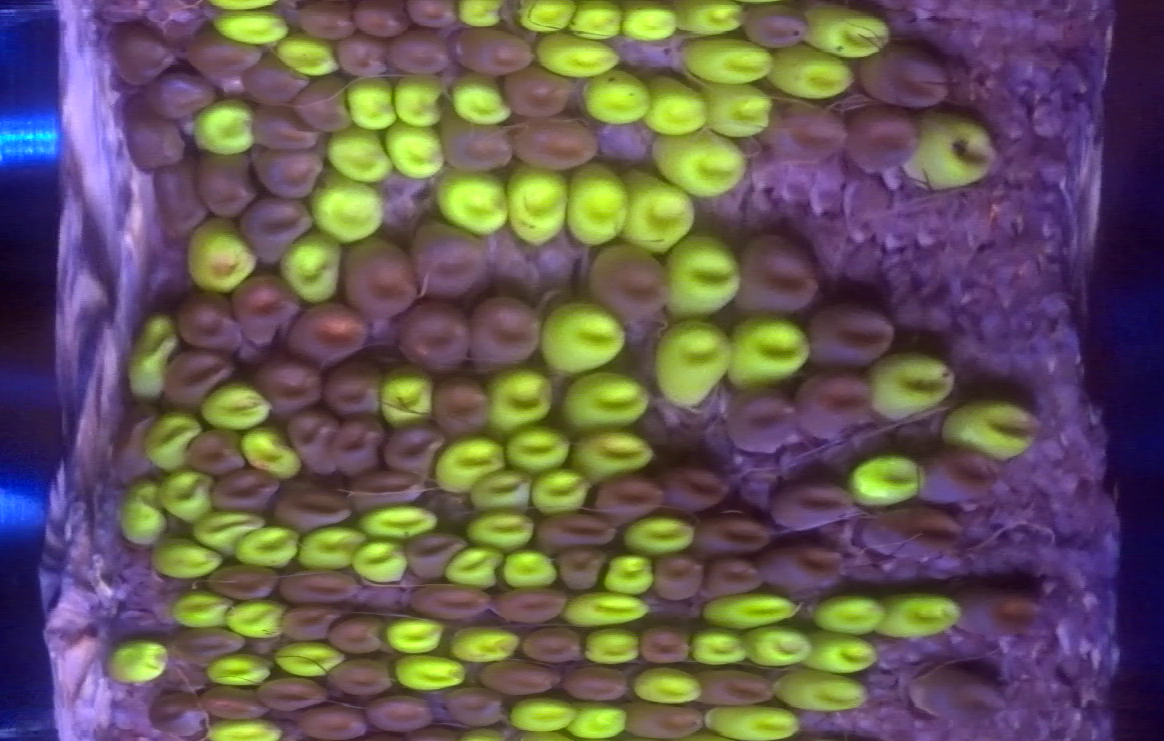fluorescent: (623, 164, 694, 252), (538, 304, 622, 378), (913, 107, 989, 187), (653, 322, 728, 403), (944, 402, 1037, 461), (308, 173, 388, 239), (873, 352, 951, 419), (801, 1, 890, 58), (667, 243, 737, 315), (654, 135, 743, 190), (727, 326, 805, 388), (185, 219, 251, 289), (508, 167, 565, 242), (562, 378, 649, 427), (569, 168, 625, 244), (772, 49, 852, 102), (440, 172, 505, 235), (127, 315, 175, 398), (700, 77, 769, 132), (647, 70, 705, 132), (690, 42, 770, 86), (883, 593, 954, 642), (438, 438, 503, 491), (283, 232, 338, 294), (448, 70, 512, 123), (321, 127, 391, 175), (487, 374, 554, 424), (703, 703, 798, 737), (534, 34, 618, 71), (776, 675, 867, 709), (850, 464, 929, 502), (194, 99, 254, 148), (241, 427, 297, 478), (586, 74, 643, 123), (379, 371, 437, 418), (565, 596, 644, 629), (572, 437, 652, 469), (192, 513, 263, 549), (383, 127, 446, 167), (202, 386, 270, 423), (625, 517, 693, 554), (276, 35, 337, 76), (301, 528, 365, 566), (156, 536, 221, 573), (395, 71, 436, 129), (706, 598, 792, 625), (394, 657, 464, 690), (163, 473, 213, 519), (812, 598, 877, 633), (634, 667, 702, 700), (691, 626, 745, 667), (147, 415, 196, 460), (216, 11, 289, 41), (506, 430, 568, 465), (354, 543, 409, 582), (124, 490, 168, 538), (238, 533, 300, 567), (534, 473, 586, 512), (447, 629, 513, 659), (349, 79, 391, 126), (605, 553, 658, 589), (804, 638, 872, 666), (358, 508, 435, 532), (571, 5, 622, 41), (214, 654, 269, 687), (471, 515, 533, 544), (275, 645, 339, 673), (113, 643, 164, 678), (505, 552, 557, 586), (680, 3, 740, 32), (386, 619, 440, 651), (514, 699, 575, 727), (518, 1, 573, 32), (230, 601, 283, 633), (743, 634, 805, 661), (449, 551, 501, 583), (470, 476, 529, 504), (586, 631, 637, 663), (623, 10, 676, 40), (174, 596, 227, 624), (569, 708, 627, 732), (458, 1, 502, 24), (207, 723, 280, 736), (208, 1, 276, 9)
nonfluorescent: (407, 217, 493, 300), (738, 231, 821, 317), (339, 232, 417, 322), (858, 37, 955, 109), (586, 242, 671, 322), (907, 661, 1008, 724), (469, 292, 544, 374), (767, 102, 855, 167), (805, 302, 897, 363), (798, 367, 871, 441), (847, 103, 923, 174), (863, 508, 966, 559), (400, 299, 468, 375), (288, 300, 370, 362), (513, 113, 599, 171), (954, 578, 1035, 638), (768, 474, 853, 531), (118, 93, 184, 166), (723, 389, 798, 452), (230, 271, 298, 340), (917, 447, 1002, 500), (438, 120, 518, 174), (658, 461, 732, 517), (453, 26, 535, 76), (182, 27, 263, 77), (243, 193, 305, 257), (108, 23, 174, 83), (253, 355, 320, 414), (503, 61, 574, 116), (768, 542, 846, 591), (163, 348, 231, 403), (426, 376, 492, 432), (154, 161, 204, 234), (174, 291, 239, 347), (239, 54, 308, 106), (743, 2, 814, 52), (147, 67, 218, 117), (591, 473, 662, 523), (332, 416, 387, 480), (202, 149, 256, 214), (294, 79, 353, 137), (325, 360, 383, 418), (285, 408, 333, 478), (535, 511, 618, 551), (405, 581, 492, 619), (275, 487, 351, 530), (697, 515, 773, 557), (488, 587, 569, 626), (256, 150, 324, 196), (621, 699, 705, 736), (249, 105, 321, 148), (184, 429, 244, 480), (108, 404, 146, 484), (696, 670, 777, 707), (475, 659, 560, 694), (649, 550, 703, 605), (274, 572, 361, 606), (328, 655, 401, 695), (702, 557, 773, 598), (363, 692, 437, 731), (348, 470, 425, 507), (563, 664, 629, 707), (210, 468, 279, 509), (390, 30, 453, 74), (209, 562, 278, 601), (555, 545, 610, 593), (300, 703, 371, 740), (172, 627, 247, 662), (444, 685, 505, 728), (406, 531, 463, 577), (520, 620, 583, 661), (295, 1, 357, 42), (147, 688, 201, 735), (334, 612, 389, 658), (381, 431, 441, 472), (349, 1, 410, 41), (338, 35, 392, 79), (258, 679, 330, 712), (200, 687, 273, 717), (643, 626, 693, 667), (280, 607, 338, 640), (403, 1, 458, 32)
